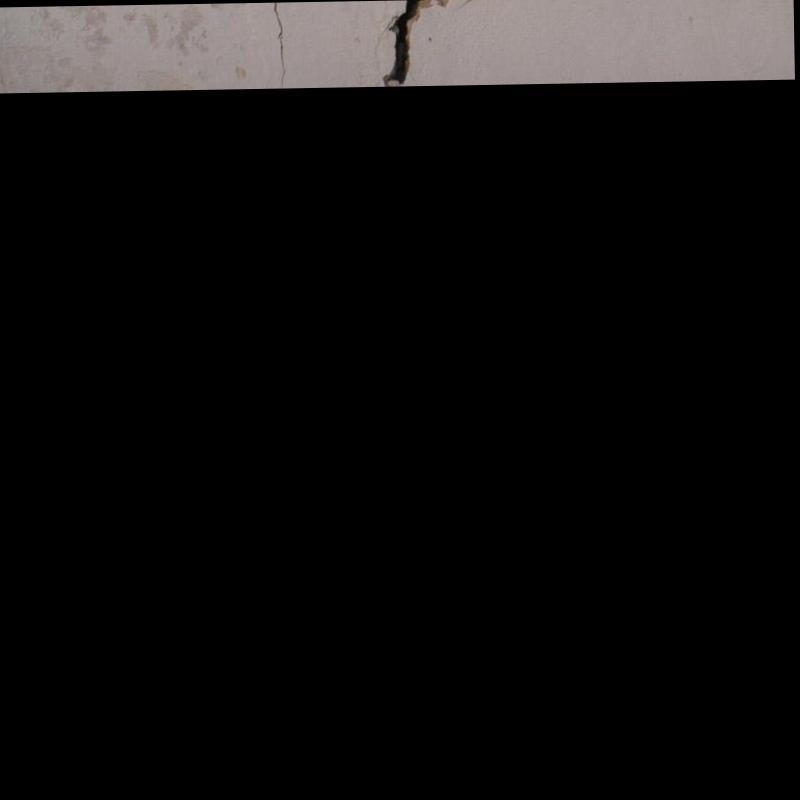pothole: (379, 0, 424, 87), (273, 2, 286, 89)
